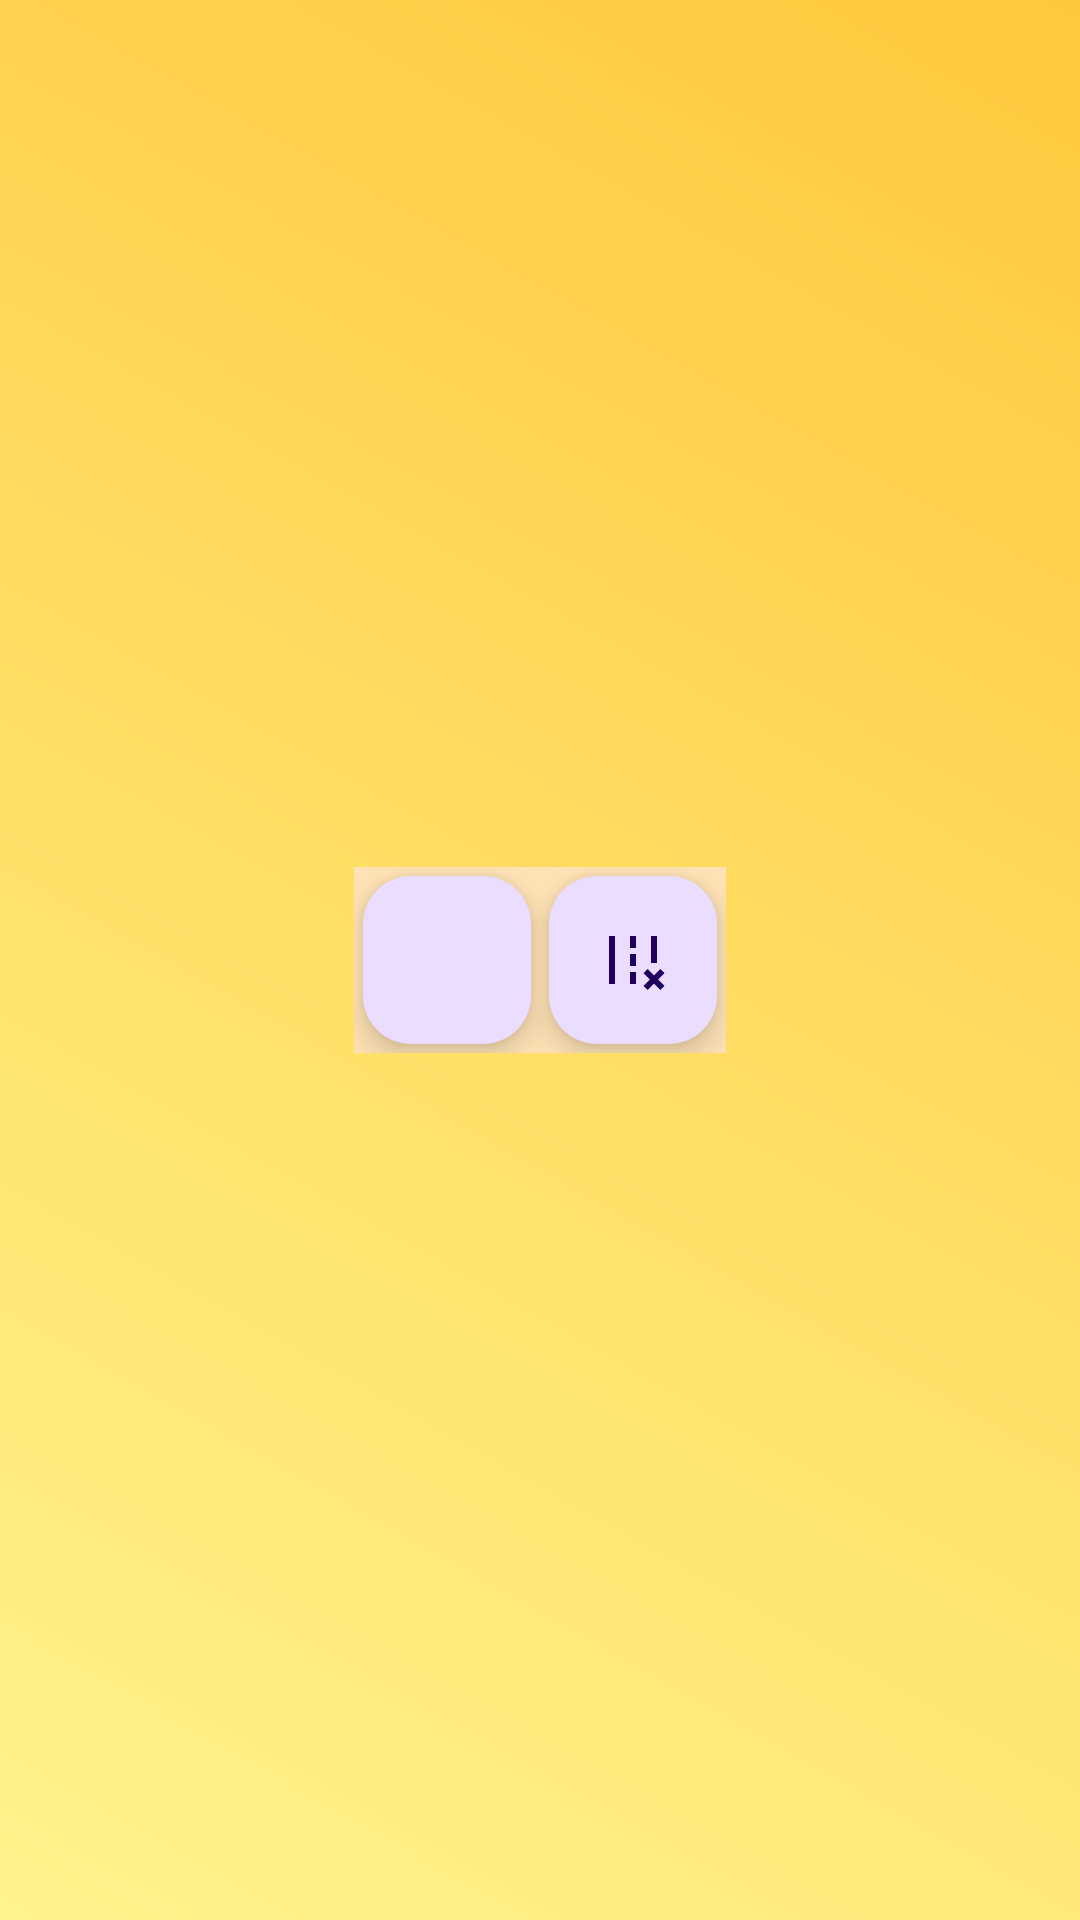

Locate icon controls on the screen. Image size 1080 × 1920, boxes as [x1=x1, y1=y1, x2=x2, y2=y2].
remove road: [x1=549, y1=876, x2=717, y2=1044]
